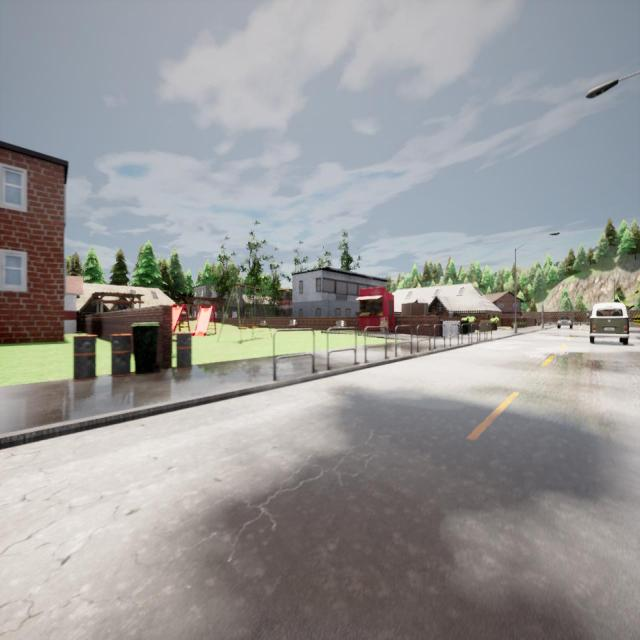Vehicle: (586, 302, 629, 345), (557, 316, 573, 329)
